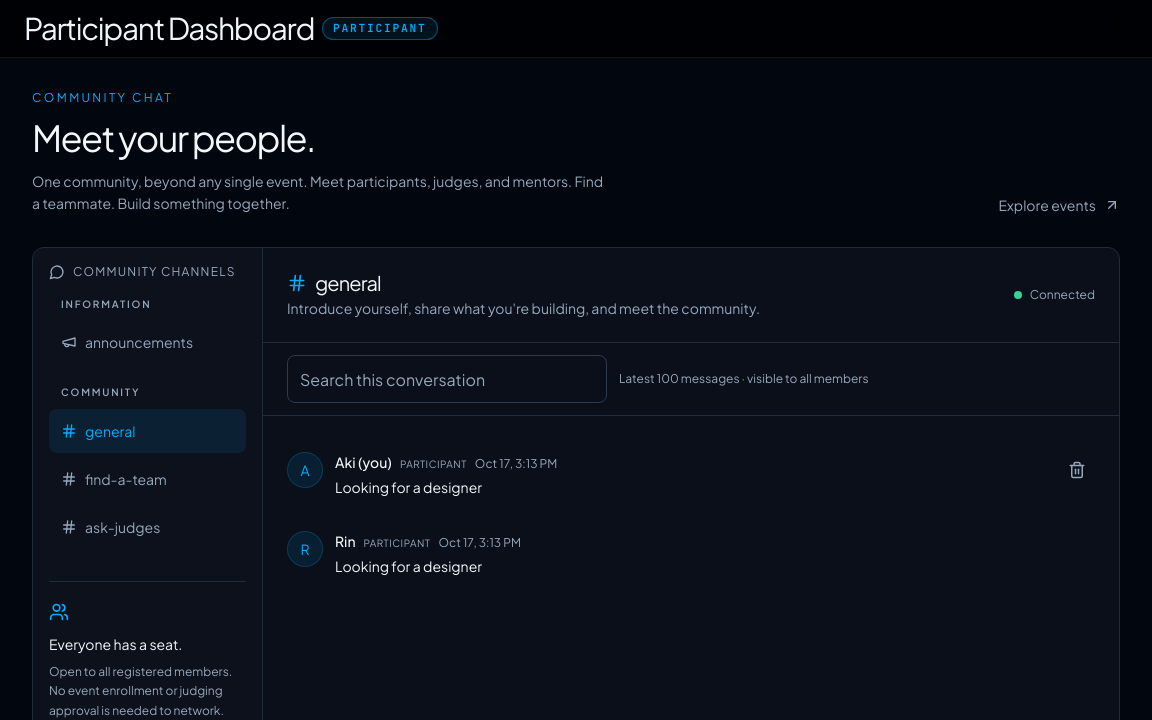
Test case: community networking channel › removes only an author's own message after confirmation
Click the button named "Delete message from Aki". click: (1077, 470)
box: [1059,452,1095,488]
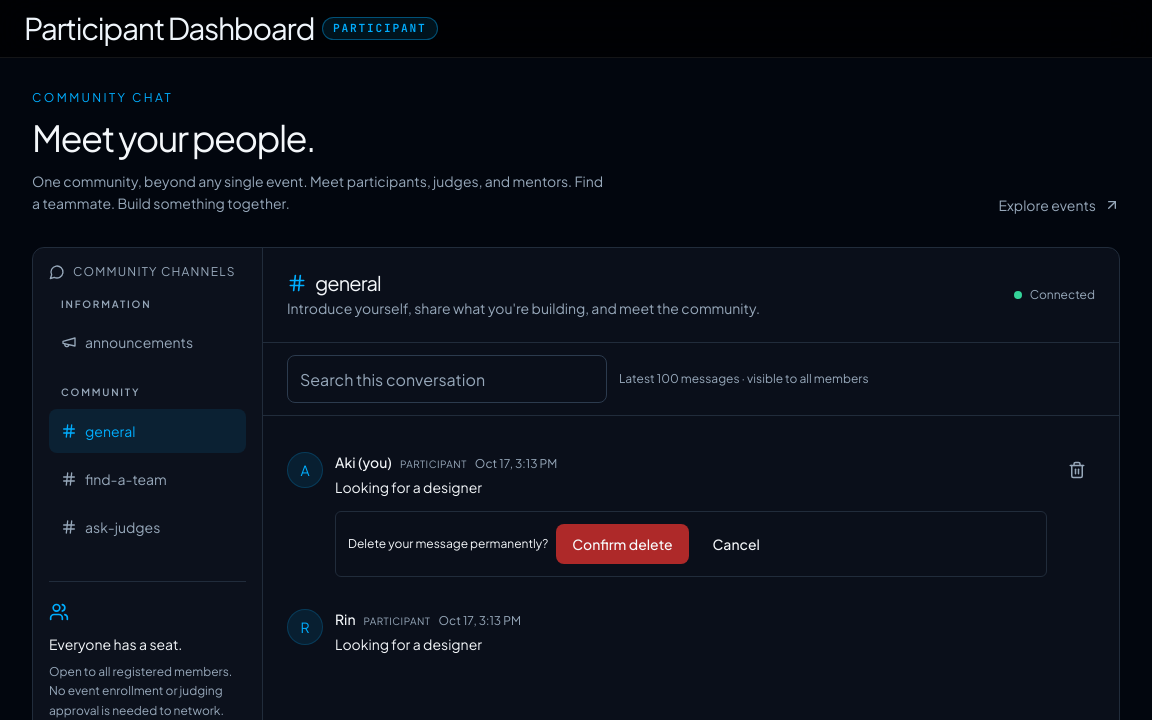
Click the button "Confirm delete". click: (622, 544)
box: [556,524,689,564]
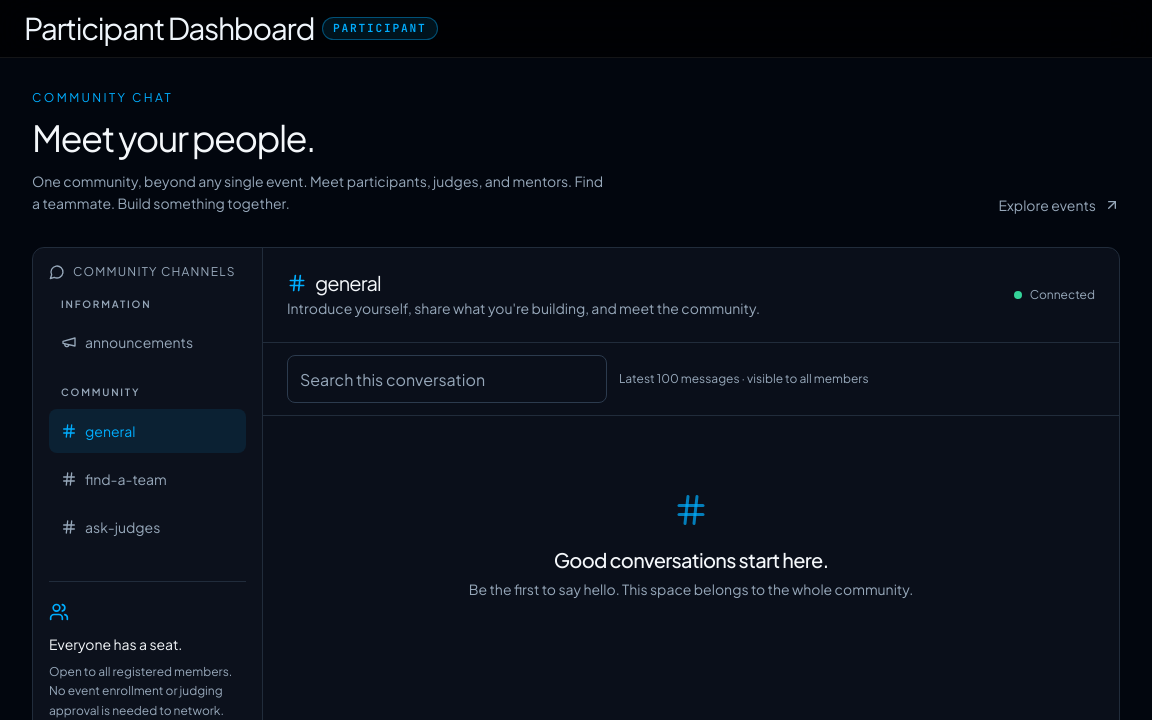
Expected: the text "Looking for a designer" is gone
